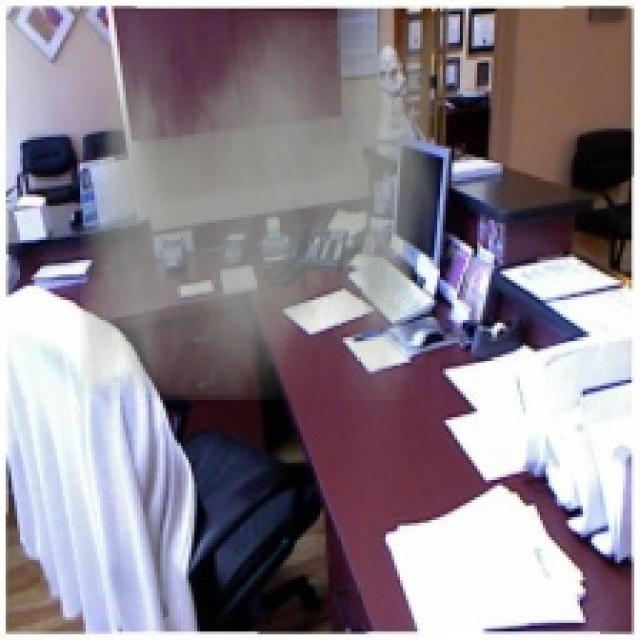smoke: (80, 11, 437, 400)
